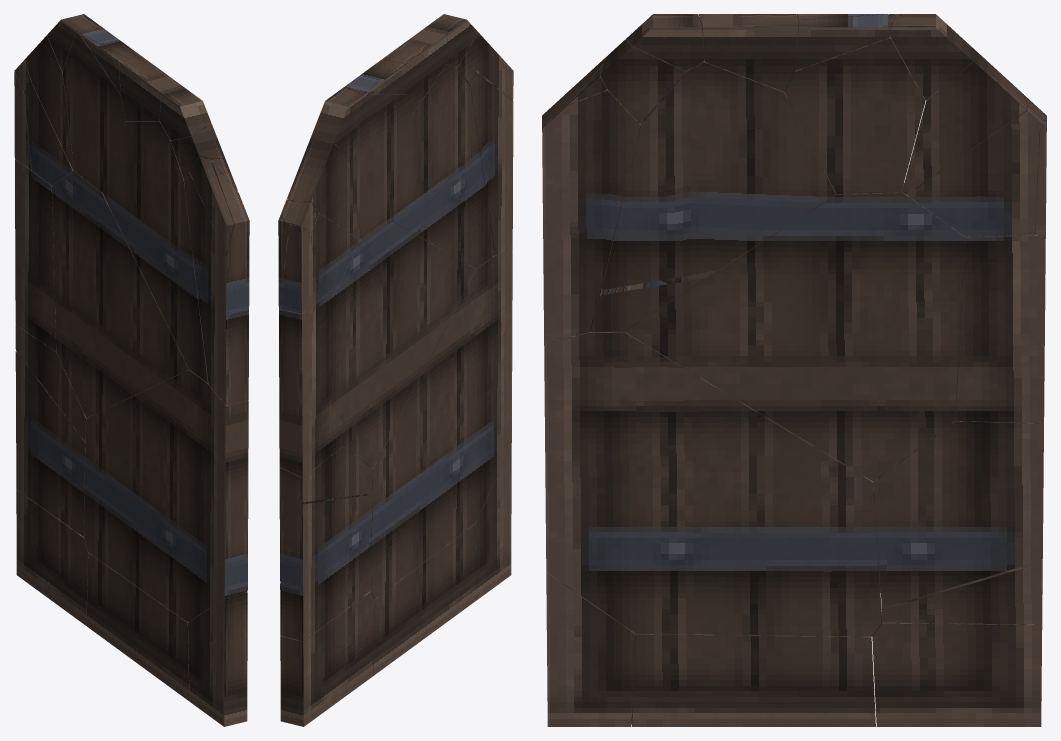
Rendered from DungeonTilesDoorBreakablePieces.glb.
3 renders of one model, left to right at view 1: azimuth 30°, elevation 25°; view 2: azimuth 150°, elevation 25°; view 3: azimuth 270°, elevation 25°, orthographic. The views are drawn at different scales.
Visible parts, largest first — view 1: Cube.003_cell.006, Cube.003_cell.023, Cube.003_cell.024, Cube.003_cell.015, Cube.003_cell.011, Cube.003_cell.009, Cube.003_cell.013, Cube.003_cell.017, Cube.003_cell.021, Cube.003_cell.008, Cube.003_cell.003, Cube.003_cell.016 (+9 smaller); view 2: Cube.003_cell.006, Cube.003_cell.023, Cube.003_cell.024, Cube.003_cell.011, Cube.003_cell.017, Cube.003_cell.008, Cube.003_cell.009, Cube.003_cell.021, Cube.003_cell.015, Cube.003_cell.003, Cube.003_cell.016, Cube.003_cell.013 (+11 smaller); view 3: Cube.003_cell.006, Cube.003_cell.023, Cube.003_cell.020, Cube.003_cell.003, Cube.003_cell.009, Cube.003_cell.015, Cube.003_cell.008, Cube.003_cell.017, Cube.003_cell.021, Cube.003_cell.013, Cube.003_cell.022, Cube.003_cell.016 (+8 smaller).
Part boxes in pixels (box(x1,y1,x2,y2)): Cube.003_cell.006: box(84, 370, 248, 622); Cube.003_cell.023: box(52, 171, 189, 417); Cube.003_cell.024: box(103, 121, 208, 383); Cube.003_cell.015: box(184, 161, 249, 405); Cube.003_cell.011: box(15, 351, 85, 536); Cube.003_cell.009: box(86, 552, 189, 701); Cube.003_cell.013: box(188, 592, 247, 726); Cube.003_cell.017: box(15, 159, 56, 351); Cube.003_cell.021: box(62, 31, 128, 192); Cube.003_cell.008: box(16, 489, 88, 625); Cube.003_cell.003: box(15, 325, 86, 443); Cube.003_cell.016: box(24, 35, 74, 170); Cube.003_cell.006: box(370, 251, 512, 598); Cube.003_cell.023: box(338, 220, 475, 467); Cube.003_cell.024: box(389, 64, 494, 268); Cube.003_cell.011: box(280, 495, 372, 641); Cube.003_cell.017: box(279, 287, 343, 477); Cube.003_cell.008: box(280, 591, 374, 726); Cube.003_cell.009: box(373, 524, 476, 675); Cube.003_cell.021: box(349, 94, 412, 237); Cube.003_cell.015: box(470, 70, 513, 255); Cube.003_cell.003: box(279, 446, 372, 581); Cube.003_cell.016: box(287, 141, 361, 239); Cube.003_cell.013: box(474, 446, 511, 600); Cube.003_cell.006: box(544, 331, 881, 636); Cube.003_cell.023: box(625, 183, 964, 481); Cube.003_cell.020: box(601, 60, 835, 289); Cube.003_cell.003: box(873, 421, 1043, 607); Cube.003_cell.009: box(631, 634, 875, 726); Cube.003_cell.015: box(542, 70, 640, 343); Cube.003_cell.008: box(872, 611, 1042, 726); Cube.003_cell.017: box(955, 234, 1045, 423); Cube.003_cell.021: box(784, 14, 925, 194); Cube.003_cell.013: box(546, 572, 635, 726); Cube.003_cell.022: box(907, 105, 1046, 236); Cube.003_cell.016: box(902, 45, 1027, 194).
Bounding box in the file's own units: 0.0907 × 2.21 × 1.45.
Materials: 1 (1 with a texture image).
